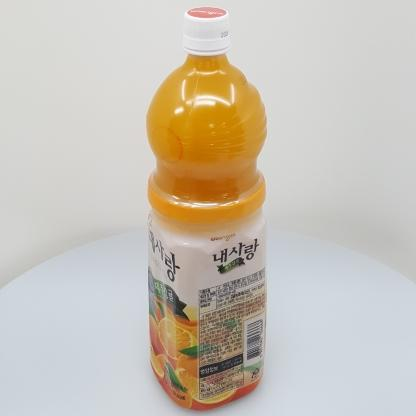----------1-5L: (146, 7, 268, 411)
